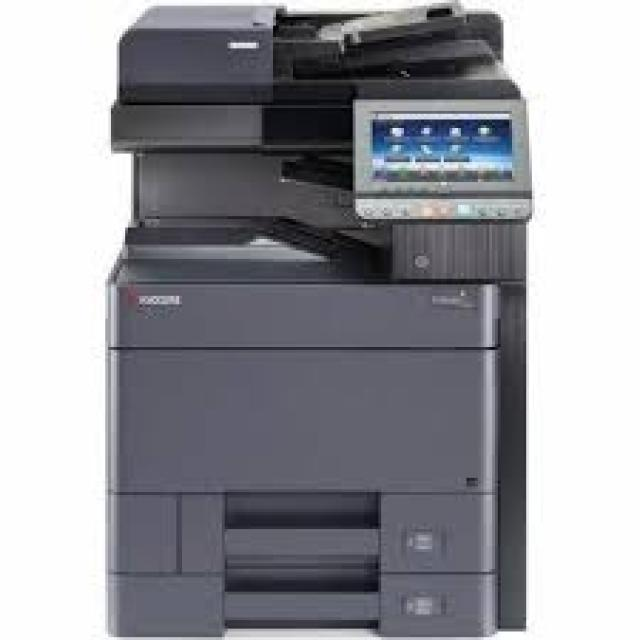printer: (102, 0, 532, 637)
